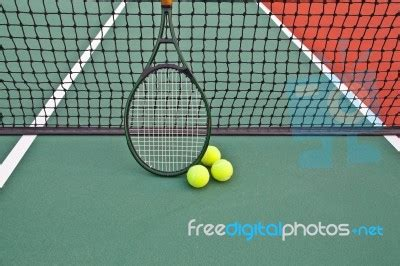tennis_ball: (186, 165, 210, 188), (211, 158, 233, 182), (201, 145, 221, 166)
